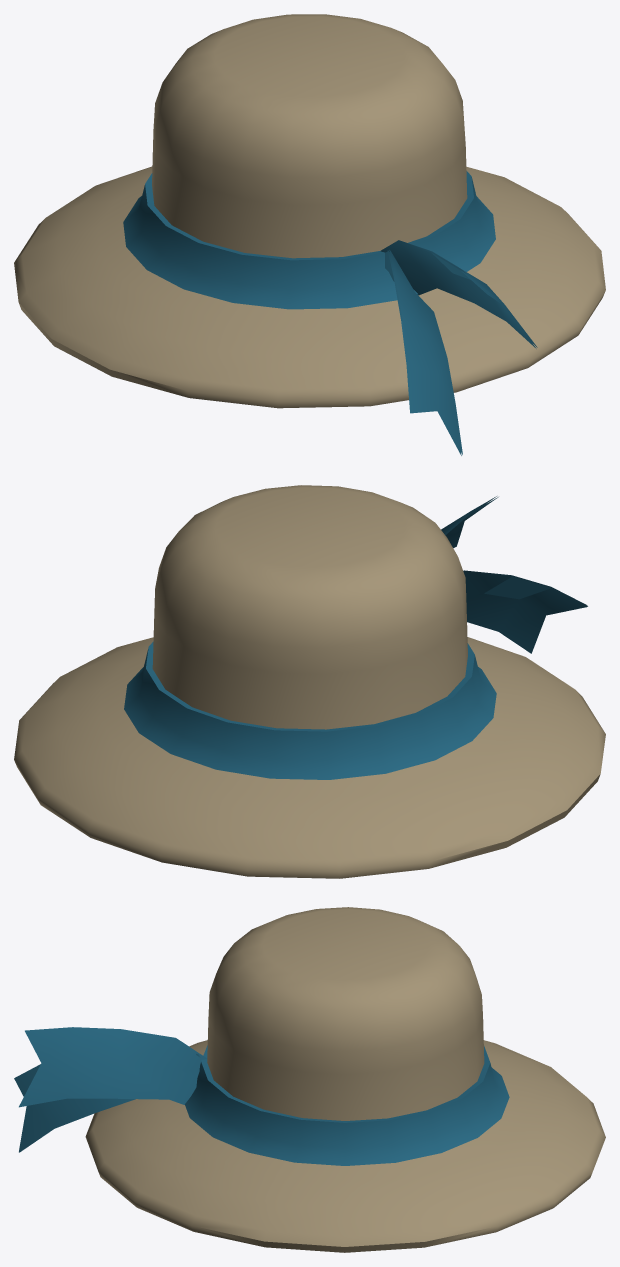
The model's file is Hat_Ladies_small_brim.fbx.
3 renders of one model, top to bottom at view 1: azimuth 30°, elevation 25°; view 2: azimuth 150°, elevation 25°; view 3: azimuth 270°, elevation 25°, orthographic. The views are drawn at different scales.
Visible parts, largest first — view 1: Hat_Ladies_small_brim; view 2: Hat_Ladies_small_brim; view 3: Hat_Ladies_small_brim.
Boxes of the visible parts, left/top/right/bottom form: Hat_Ladies_small_brim: left=14, top=14, right=605, bottom=455; Hat_Ladies_small_brim: left=14, top=485, right=605, bottom=878; Hat_Ladies_small_brim: left=14, top=907, right=605, bottom=1252.
Size of the model in its own units: 2.31 by 1.09 by 2.63.
